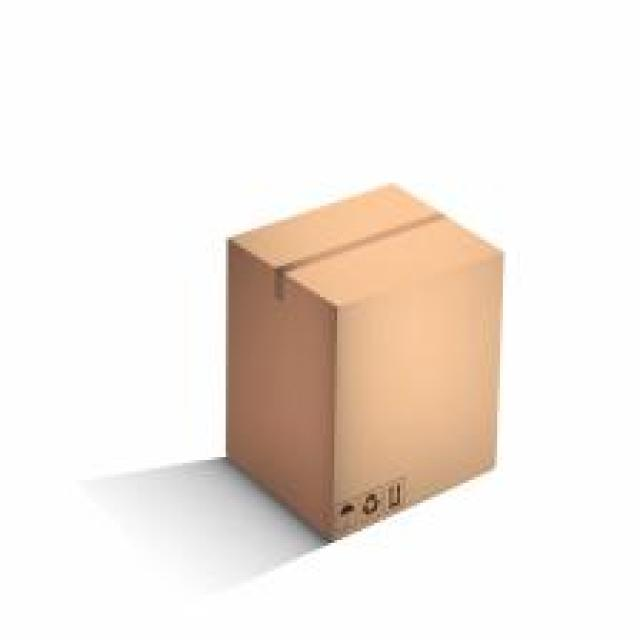box: (221, 184, 508, 545)
